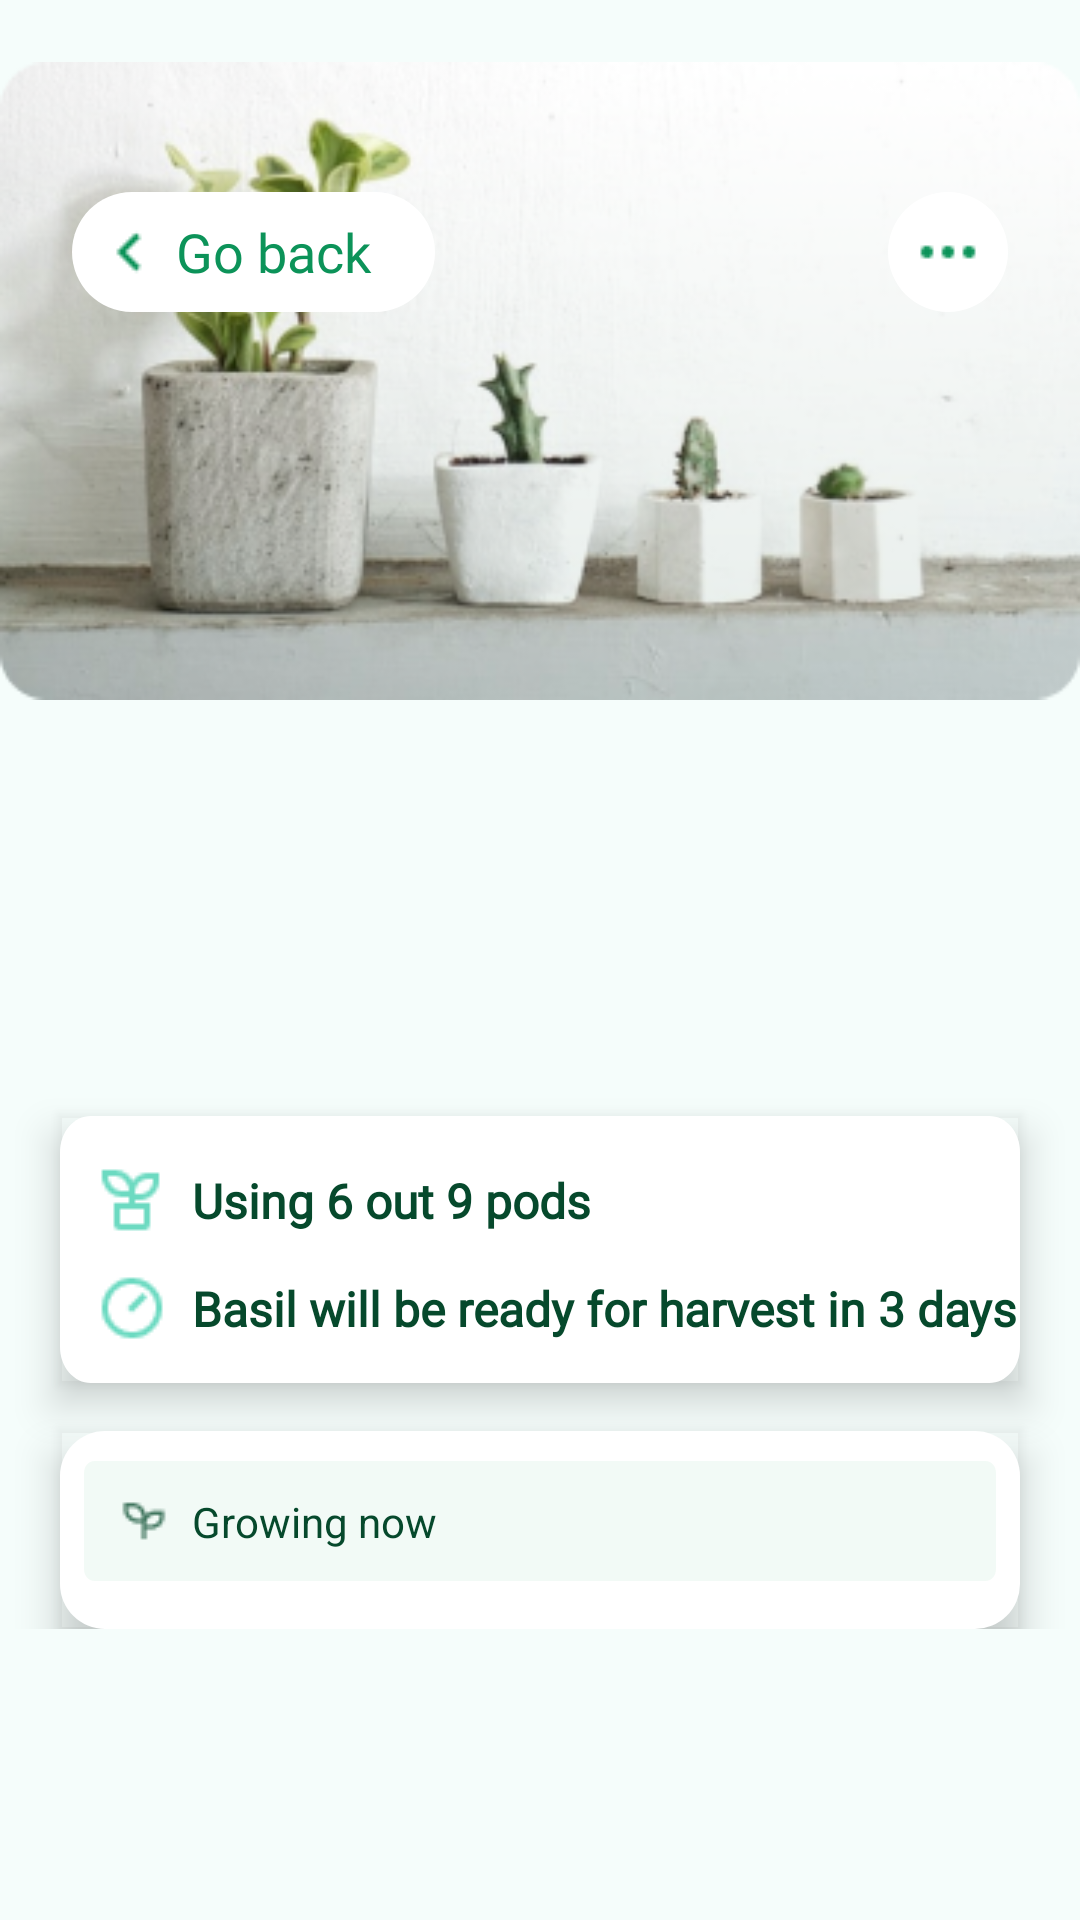

Screen size 1080*1920. Icon name, then its center in pixels as [x,y]:
time: [132,1308]
